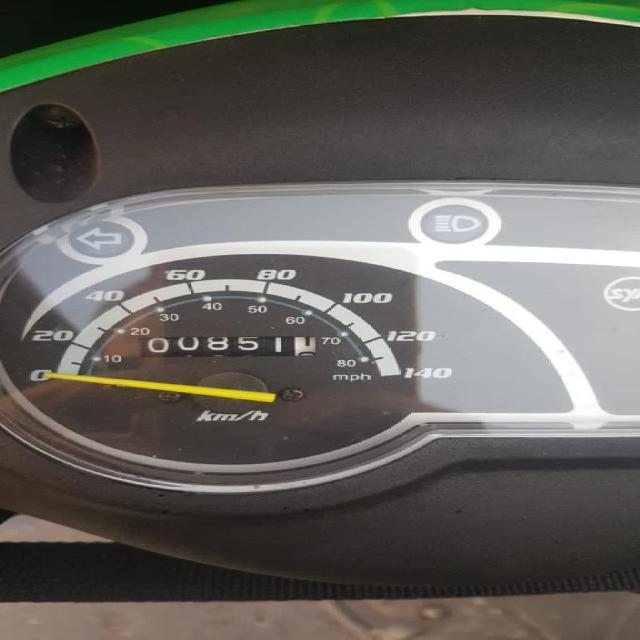odometer: (135, 332, 321, 358)
